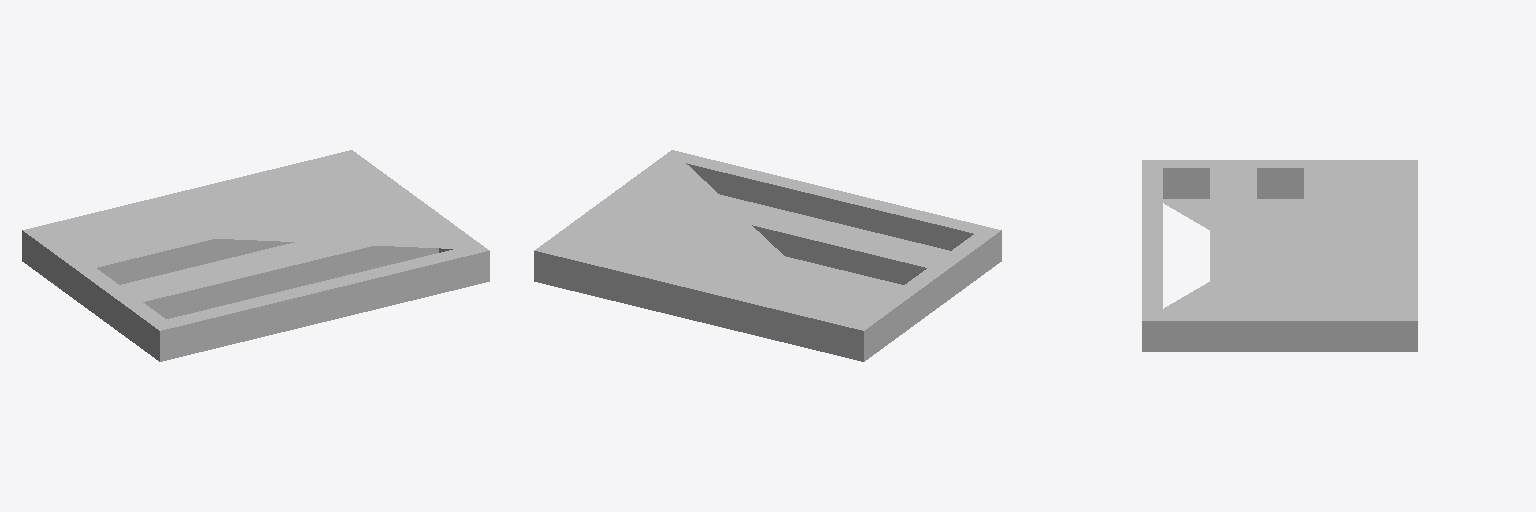
File: Vent.obj
3 views of the same model, side by side, from view 1: azimuth 30°, elevation 25°; view 2: azimuth 150°, elevation 25°; view 3: azimuth 270°, elevation 25° (orthographic).
Visible parts, largest first — view 1: Cube; view 2: Cube; view 3: Cube.
Part boxes in pixels (x1,y1,x2,y2): Cube: (22, 150, 489, 361); Cube: (534, 150, 1001, 361); Cube: (1142, 160, 1417, 351).
Size of the model in its own units: 2.71 by 0.2443 by 1.96.